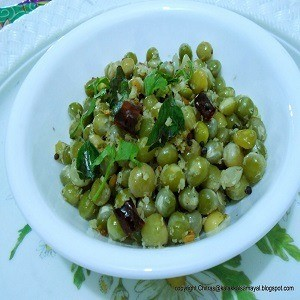green pea_brain food: (125, 163, 160, 204), (178, 184, 202, 212), (196, 42, 215, 68), (89, 113, 110, 134)
